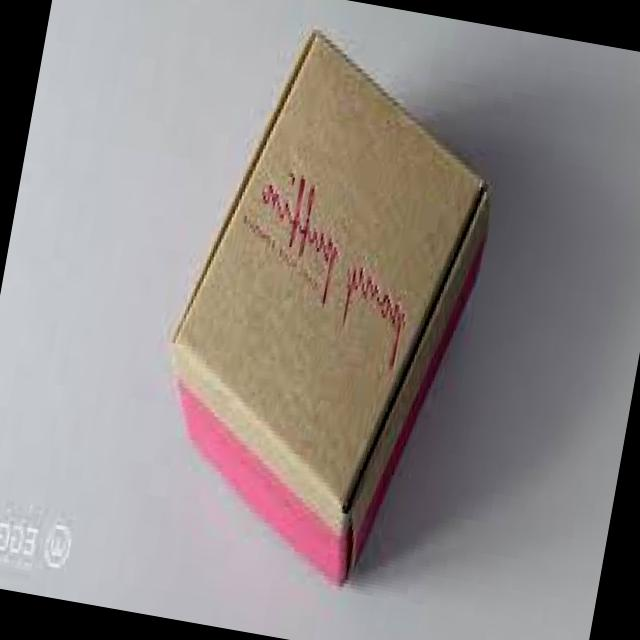cardboard: (172, 34, 487, 579)
